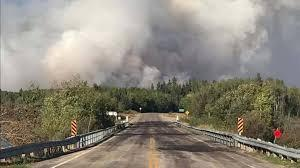yanwu: (1, 0, 299, 89)
